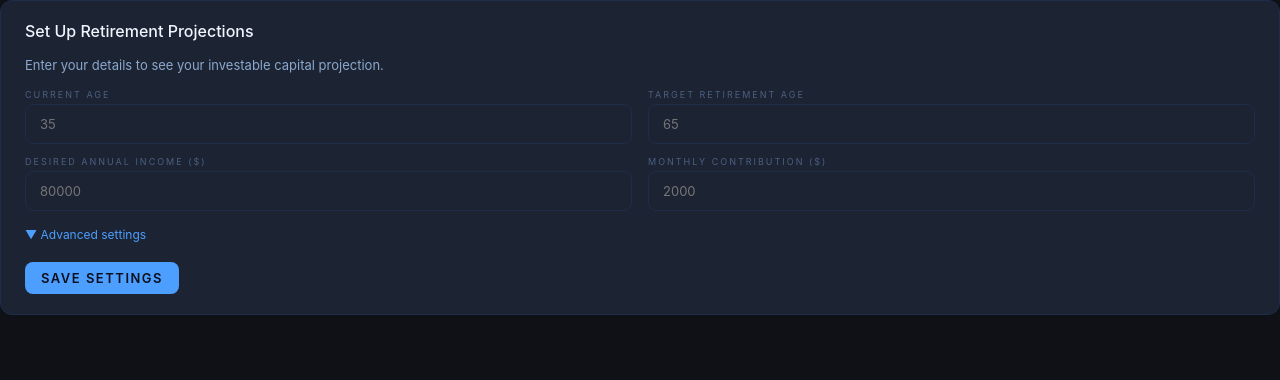
ForecastingSetup › shows validation error when target age <= current age
In the number field labelled "Current age": point(328, 124) x1=25 y1=104 x2=632 y2=144, type "65"
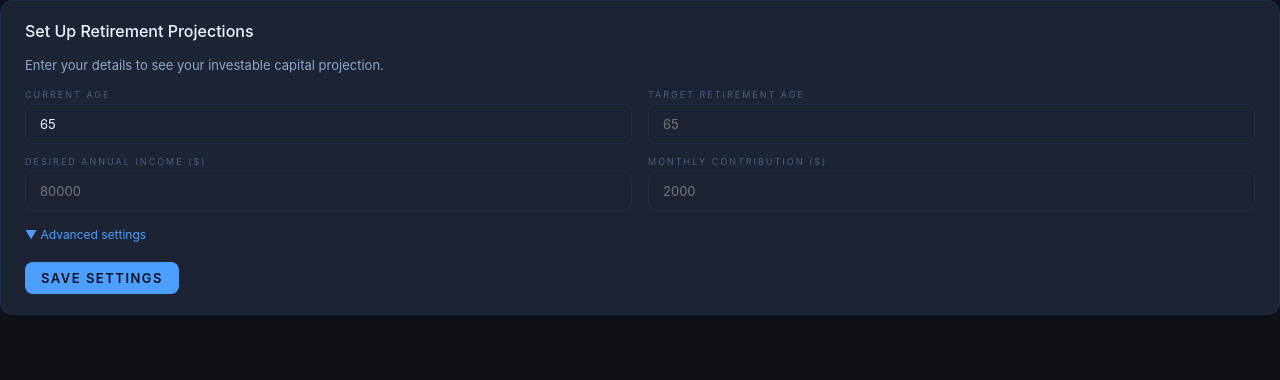
In the number field labelled "Target retirement age": point(952, 124) x1=648 y1=104 x2=1255 y2=144, type "40"
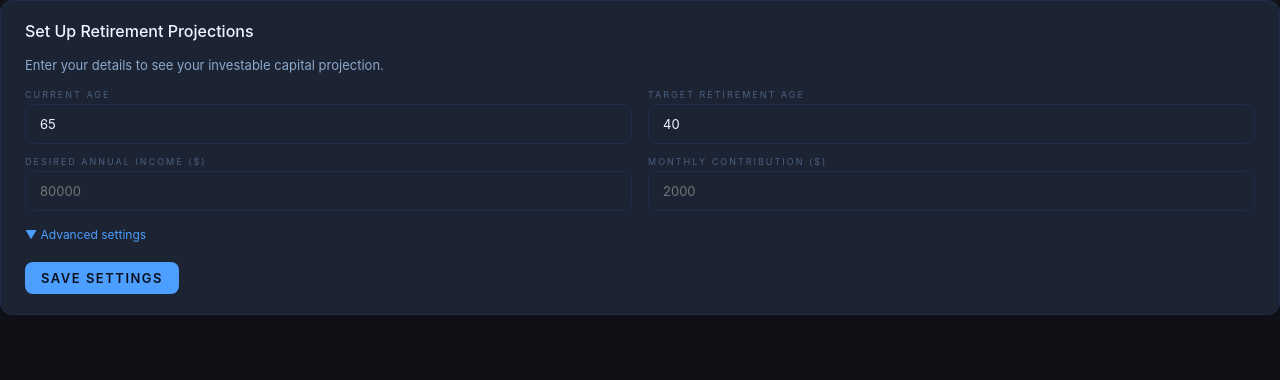
Click the button "Save Settings": point(102, 278) x1=25 y1=262 x2=179 y2=294
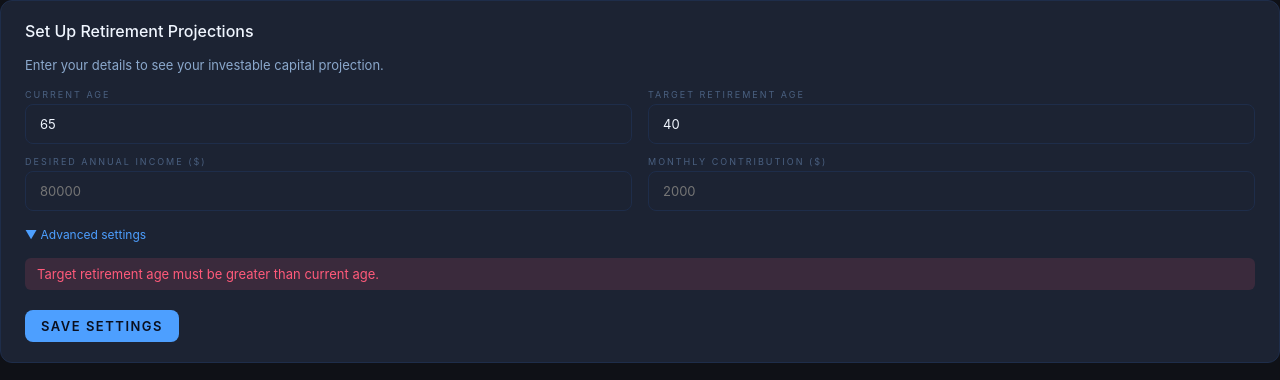
Result: the text "Target retirement age must be greater than current age." is shown at x1=25 y1=258 x2=1255 y2=290
